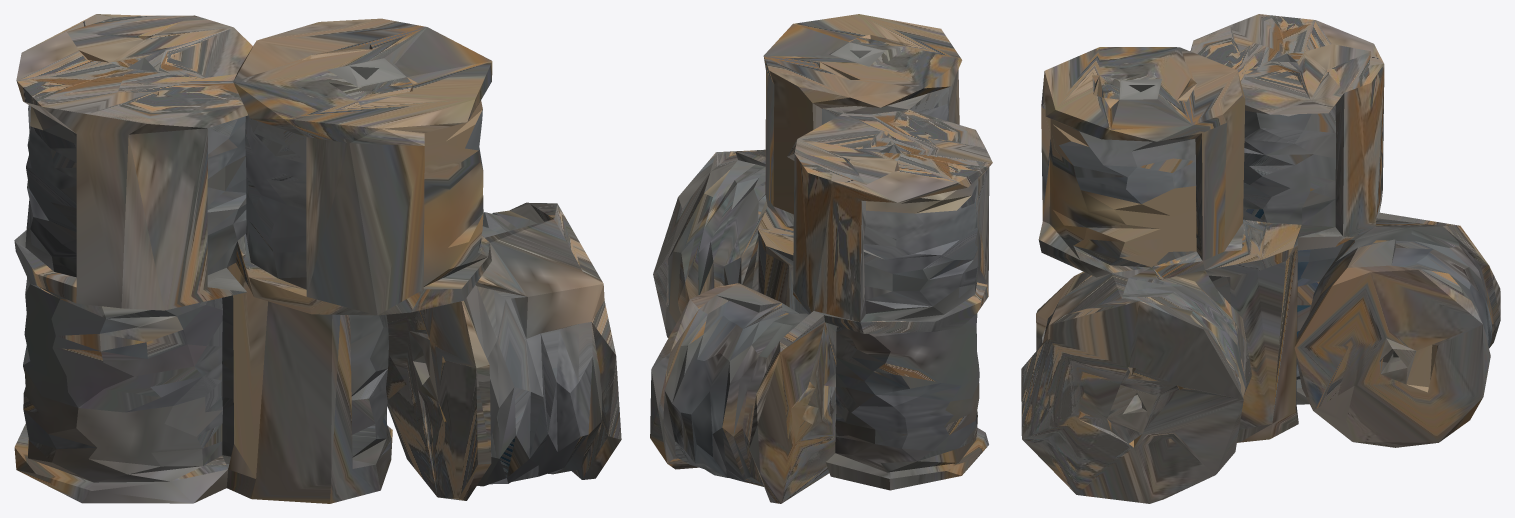
The picture shows the model from 3 angles, left to right: view 1: azimuth 30°, elevation 25°; view 2: azimuth 150°, elevation 25°; view 3: azimuth 270°, elevation 25°; orthographic projection. The views are drawn at different scales.
Visible parts, largest first — view 1: k08; view 2: k08; view 3: k08.
Part boxes in pixels (x1,y1,x2,y2): k08: (14, 14, 621, 503); k08: (650, 14, 992, 503); k08: (1021, 14, 1500, 503).
Bounding box in the file's own units: 13.18 × 12.04 × 15.16.
1 material, 1 textured.
